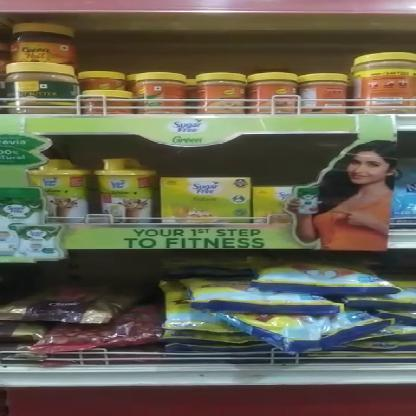SUGAR FREE NATURA SACHET 50: (161, 178, 249, 220), (251, 188, 293, 219)
